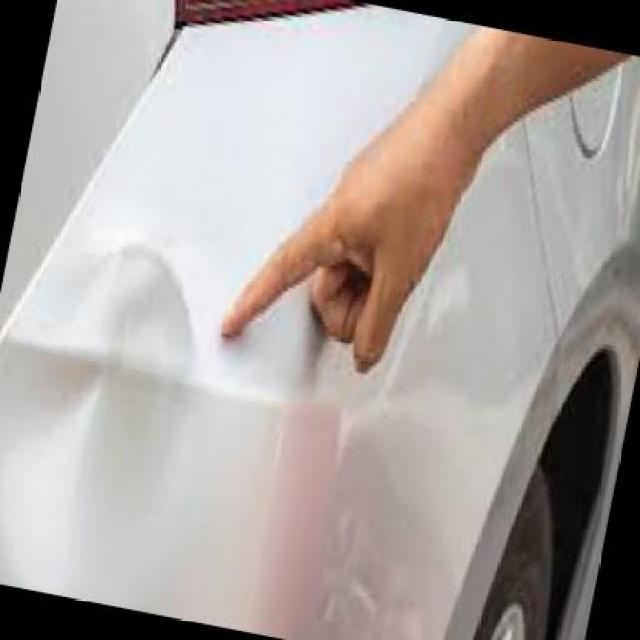dent: (72, 258, 188, 546)
